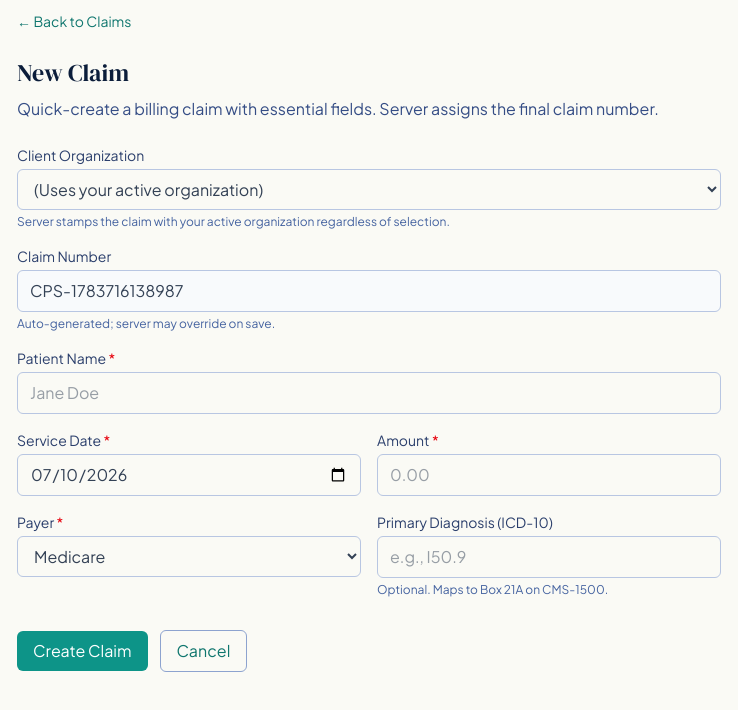
it: NewClaimForm › blocks submit and shows error when patient name is empty
In the number field labelled "Amount *": (549, 475) [377,454,721,496], type "100"
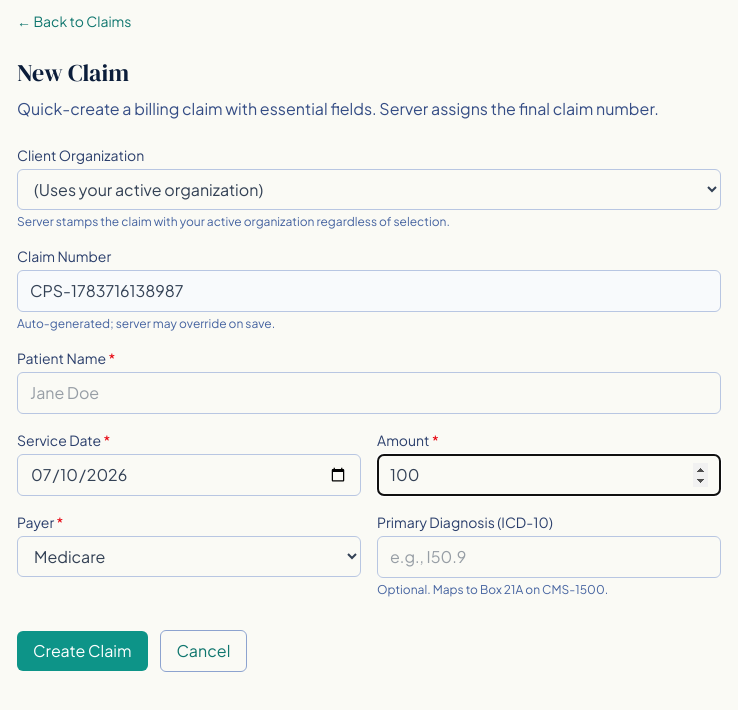
Click the button "Create Claim": (82, 651) [17,631,148,671]
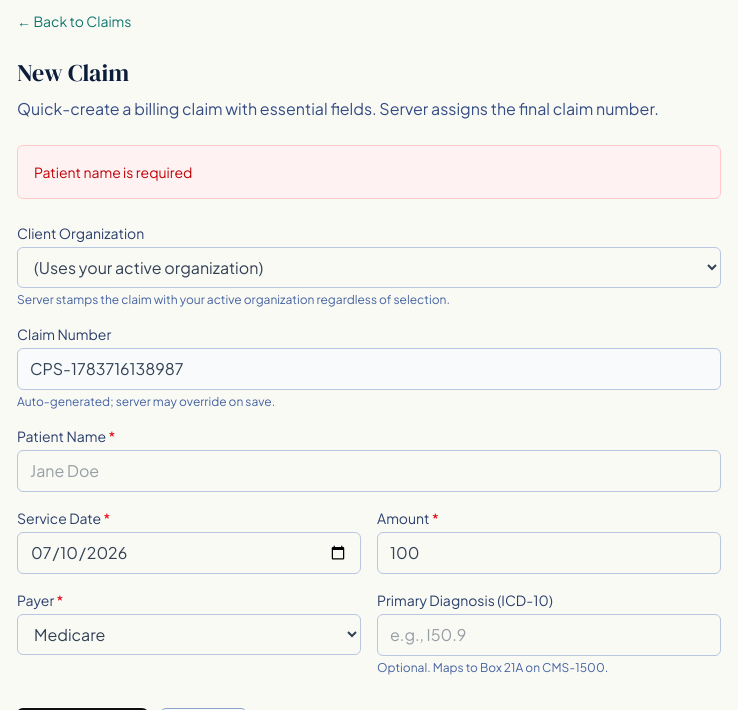
Expected: the message reads "Patient name is required", [34,163,192,181]
